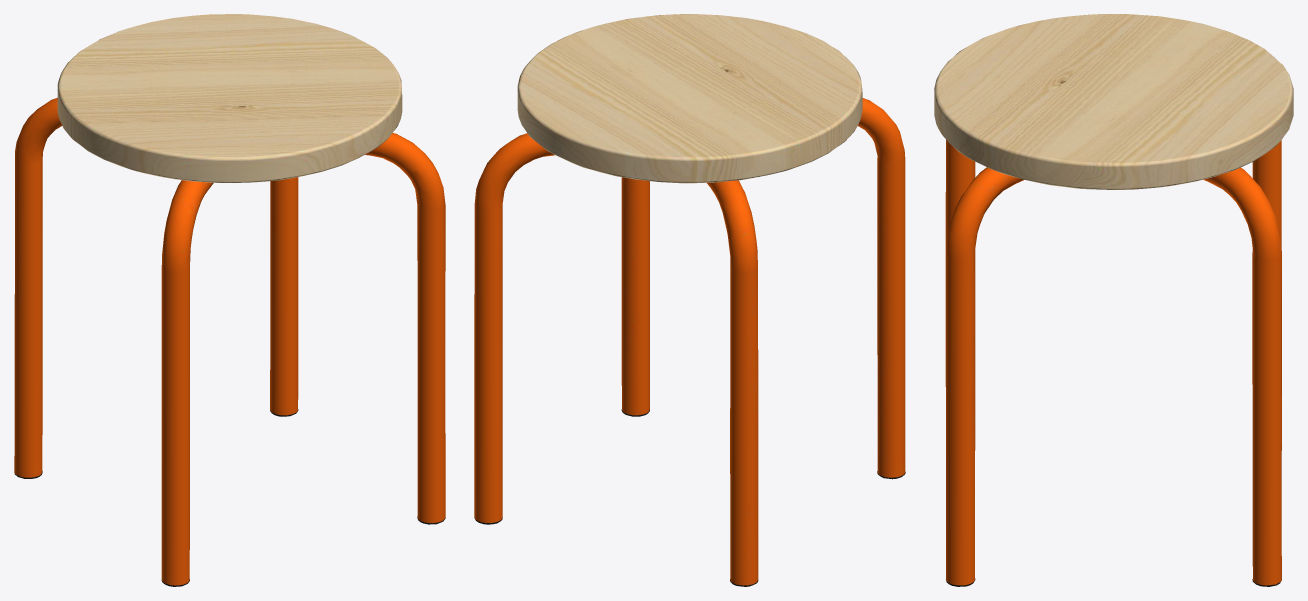
The model's file is domsten_stoek_30555159.glb.
The picture shows the model from 3 angles, left to right: view 1: azimuth 30°, elevation 25°; view 2: azimuth 150°, elevation 25°; view 3: azimuth 270°, elevation 25°; orthographic projection. The views are drawn at different scales.
Visible parts, largest first — view 1: domsten_stoek_30555159; view 2: domsten_stoek_30555159; view 3: domsten_stoek_30555159.
Part boxes in pixels (x1,y1,x2,y2): domsten_stoek_30555159: (14, 14, 445, 586); domsten_stoek_30555159: (474, 14, 905, 586); domsten_stoek_30555159: (934, 14, 1293, 586).
Bounding box in the file's own units: 0.3388 × 0.4452 × 0.3389.
1 material, 1 textured.
